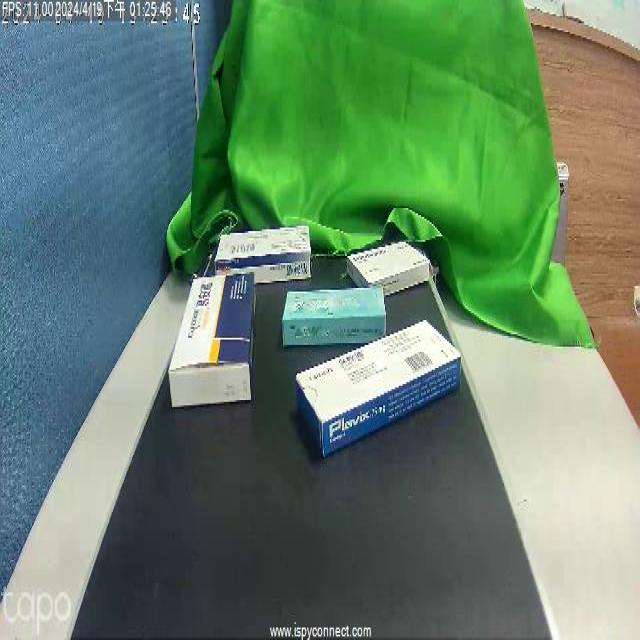box: (308, 327, 442, 448), (175, 266, 255, 398), (282, 283, 382, 348), (218, 214, 313, 271), (354, 236, 427, 300)
